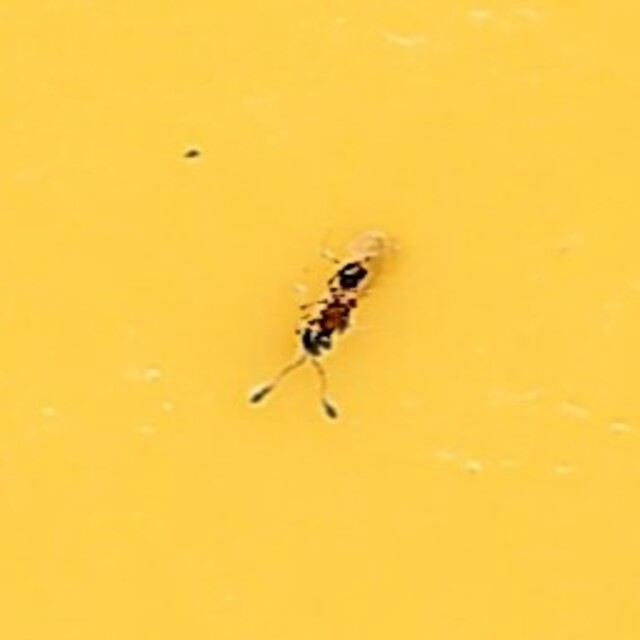Hymenoptera: (248, 221, 392, 419)
